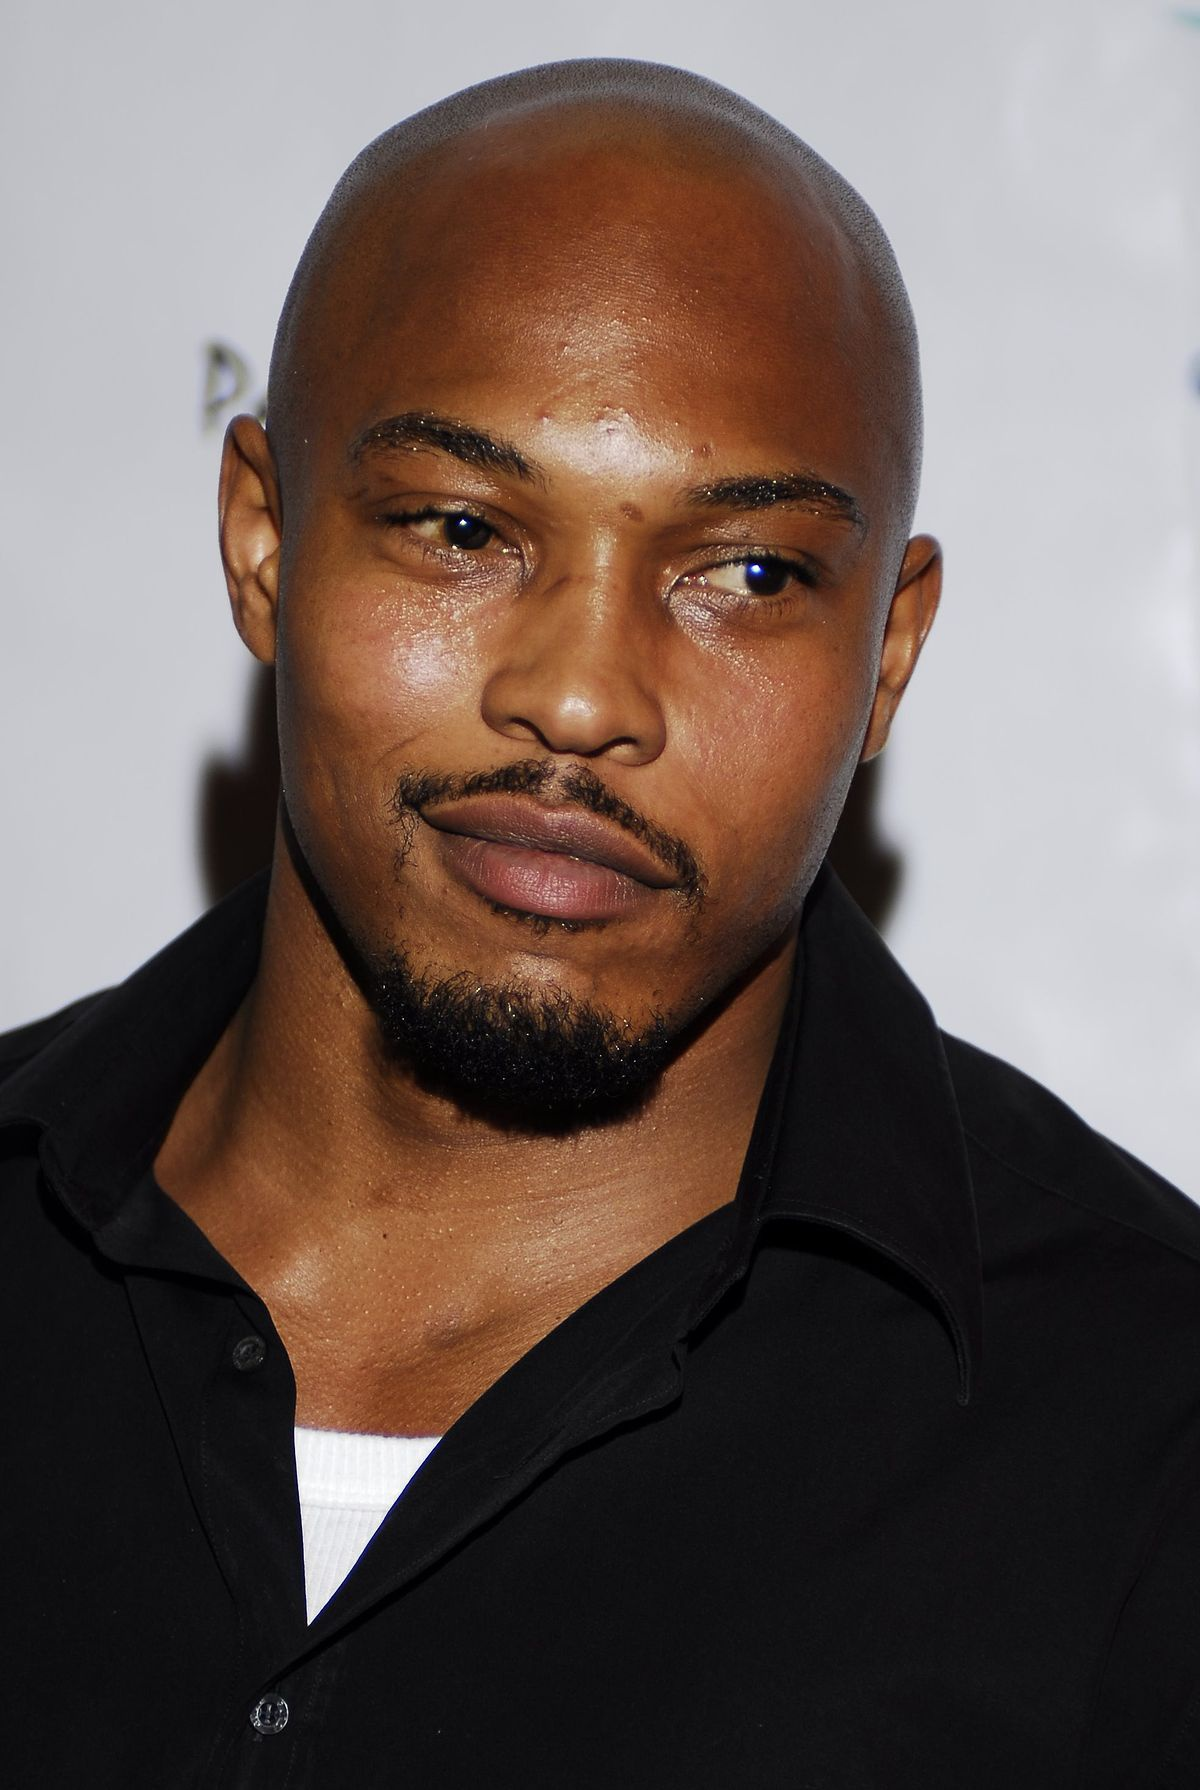bad: (280, 353, 946, 1020)
